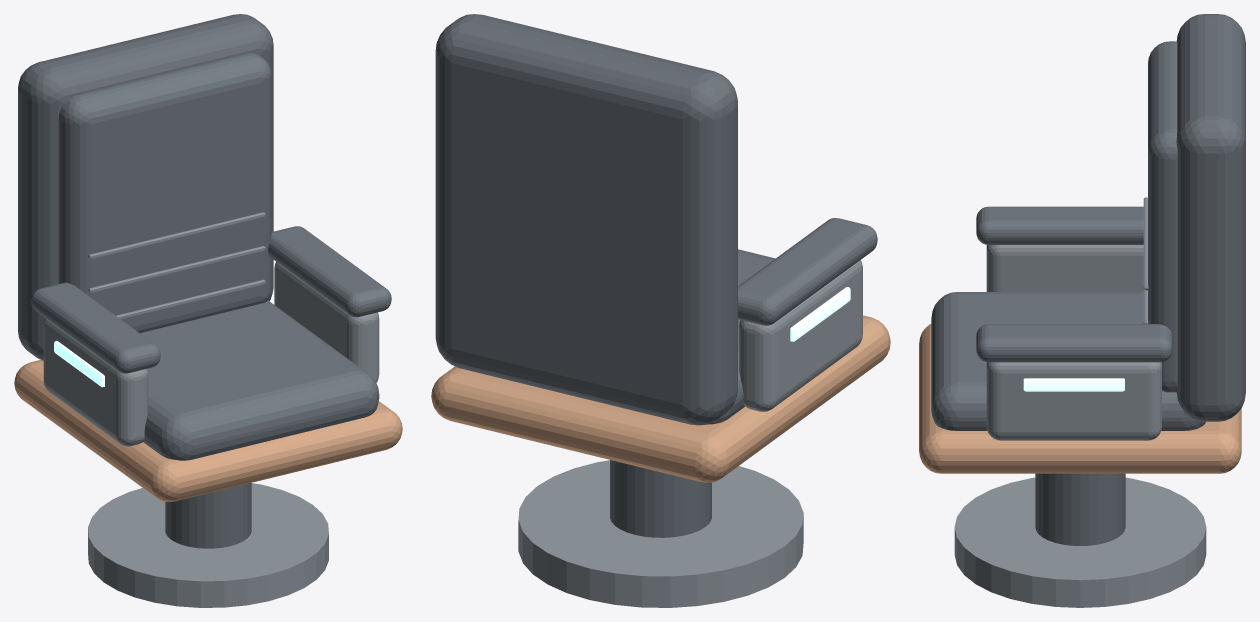
File: pilot_chair.glb
The picture shows the model from 3 angles, left to right: view 1: azimuth 30°, elevation 25°; view 2: azimuth 150°, elevation 25°; view 3: azimuth 270°, elevation 25°; orthographic projection. The views are drawn at different scales.
Visible parts, largest first — view 1: back_cushion_007, seat_cushion_005, back_shell_006, column_001, seat_frame_004, shell_011, shell_012, shell_015, shell_014, column_002, stitch_009, stitch_010 (+2 smaller); view 2: back_shell_006, column_001, seat_frame_004, shell_011, shell_012, column_002, seat_cushion_005, shell_013; view 3: back_shell_006, column_001, seat_frame_004, seat_cushion_005, shell_014, back_cushion_007, shell_015, shell_011, shell_012, column_002, shell_016, stitch_010.
Part boxes in pixels (box(x1,y1,x2,y2)): back_cushion_007: box(58, 53, 271, 332); seat_cushion_005: box(140, 300, 379, 460); back_shell_006: box(18, 14, 273, 360); column_001: box(88, 483, 328, 607); seat_frame_004: box(14, 360, 402, 501); shell_011: box(43, 318, 148, 446); shell_012: box(31, 282, 160, 373); shell_015: box(268, 226, 391, 317); shell_014: box(274, 261, 379, 382); column_002: box(165, 483, 251, 548); stitch_009: box(88, 246, 265, 292); stitch_010: box(88, 212, 265, 258); back_shell_006: box(435, 14, 737, 425); column_001: box(518, 460, 803, 607); seat_frame_004: box(431, 315, 890, 482); shell_011: box(739, 260, 862, 411); shell_012: box(738, 218, 877, 325); column_002: box(610, 460, 711, 537); seat_cushion_005: box(707, 249, 775, 424); shell_013: box(790, 287, 850, 341); back_shell_006: box(1176, 14, 1245, 421); column_001: box(954, 477, 1206, 607); seat_frame_004: box(919, 324, 1241, 473); seat_cushion_005: box(931, 292, 1205, 430); shell_014: box(986, 362, 1161, 440); back_cushion_007: box(1148, 41, 1177, 392); shell_015: box(976, 324, 1172, 362); shell_011: box(986, 245, 1143, 291); shell_012: box(976, 206, 1143, 244); column_002: box(1035, 473, 1125, 545); shell_016: box(1023, 378, 1124, 391); stitch_010: box(1143, 197, 1148, 290).
Size of the model in its own units: 0.81 by 1.32 by 0.8.
